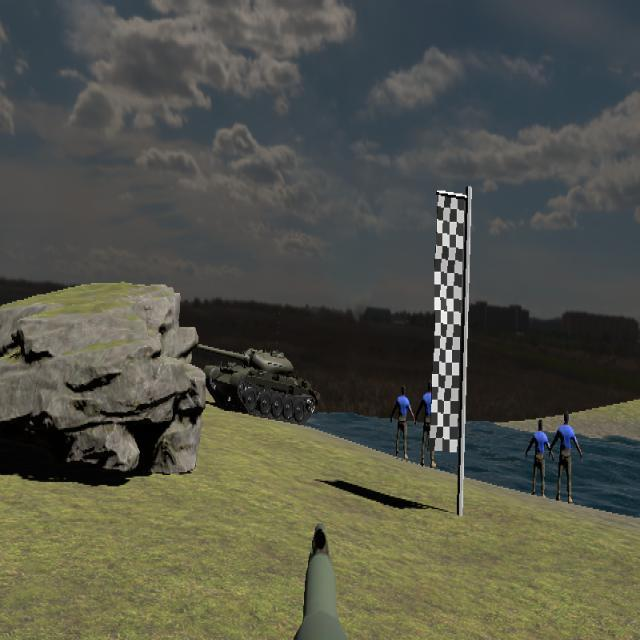Human: (549, 409, 582, 507), (525, 418, 554, 499), (390, 384, 416, 461), (415, 378, 436, 468)
Tank: (184, 341, 320, 426)
